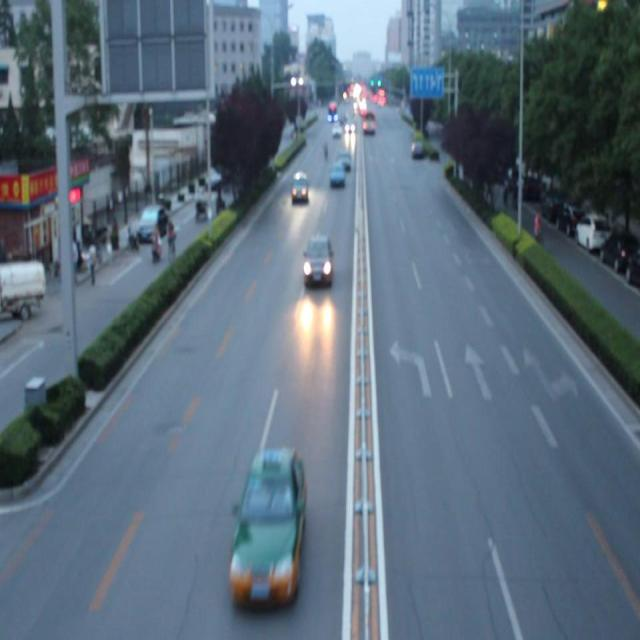car: (233, 445, 307, 604), (303, 234, 334, 284), (289, 170, 310, 206)
